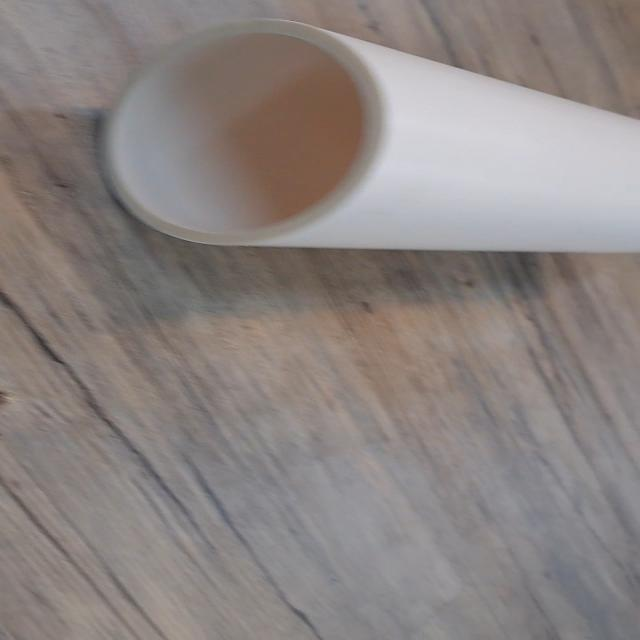CORAL: (77, 12, 640, 304)
